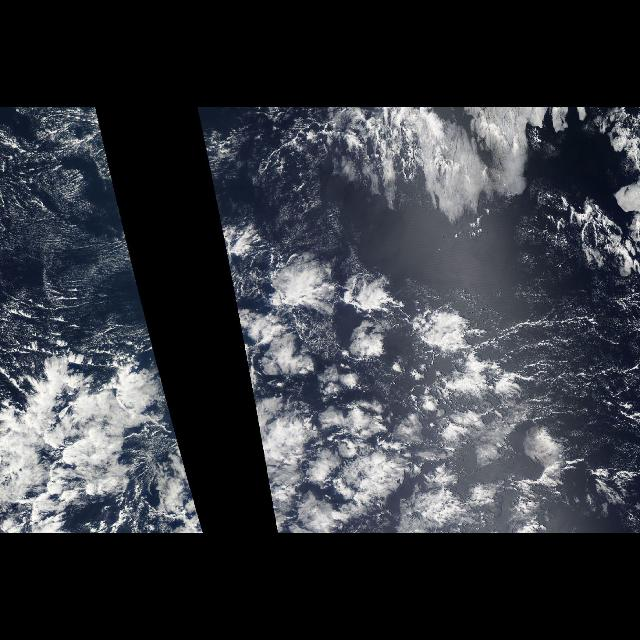Flower: (229, 107, 583, 533)
Gravel: (487, 300, 639, 434), (0, 248, 136, 364)
Sugar: (2, 110, 146, 334), (228, 162, 369, 252)
